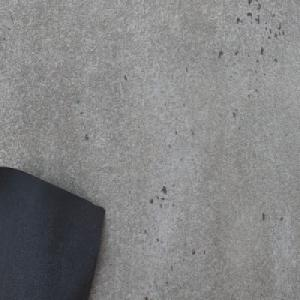PaintChip: (0, 162, 107, 300)
